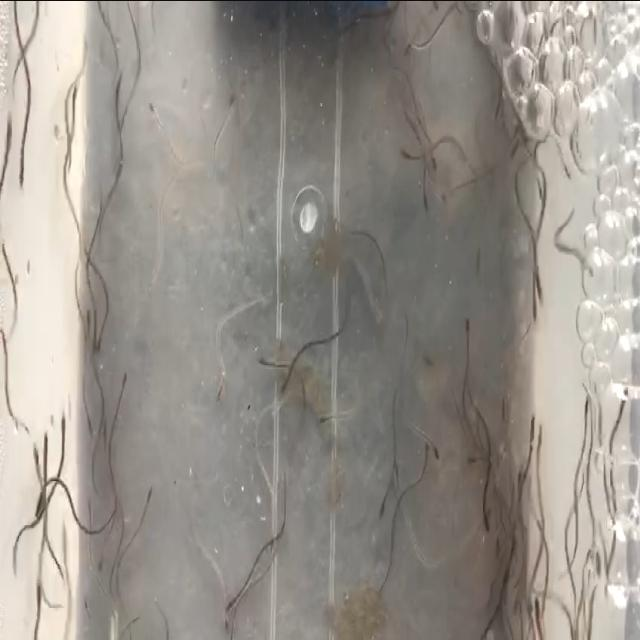active_glass_eel: (219, 77, 247, 121), (457, 290, 474, 358), (213, 361, 236, 407), (110, 368, 132, 416), (401, 28, 423, 76), (10, 154, 33, 194), (478, 497, 496, 548), (146, 262, 168, 302), (370, 486, 392, 526), (427, 131, 445, 179), (220, 586, 238, 632), (254, 342, 275, 380), (64, 72, 82, 116), (277, 361, 293, 409), (399, 140, 419, 176), (59, 396, 74, 443), (28, 433, 44, 476), (114, 58, 128, 107), (317, 402, 335, 440), (136, 476, 156, 510), (534, 260, 548, 308), (419, 182, 438, 216), (2, 109, 18, 149), (466, 442, 482, 482), (96, 316, 110, 361), (526, 285, 540, 329), (579, 391, 591, 442), (591, 542, 602, 596), (80, 293, 94, 335), (38, 424, 54, 460), (417, 430, 434, 463), (435, 188, 453, 218), (528, 407, 540, 452), (581, 254, 595, 292), (144, 92, 160, 124), (616, 384, 632, 416), (535, 170, 547, 210), (0, 326, 12, 362), (88, 318, 100, 354), (34, 485, 46, 521), (512, 457, 524, 492), (0, 234, 10, 274), (531, 593, 542, 627), (536, 418, 544, 463), (430, 440, 442, 464)
